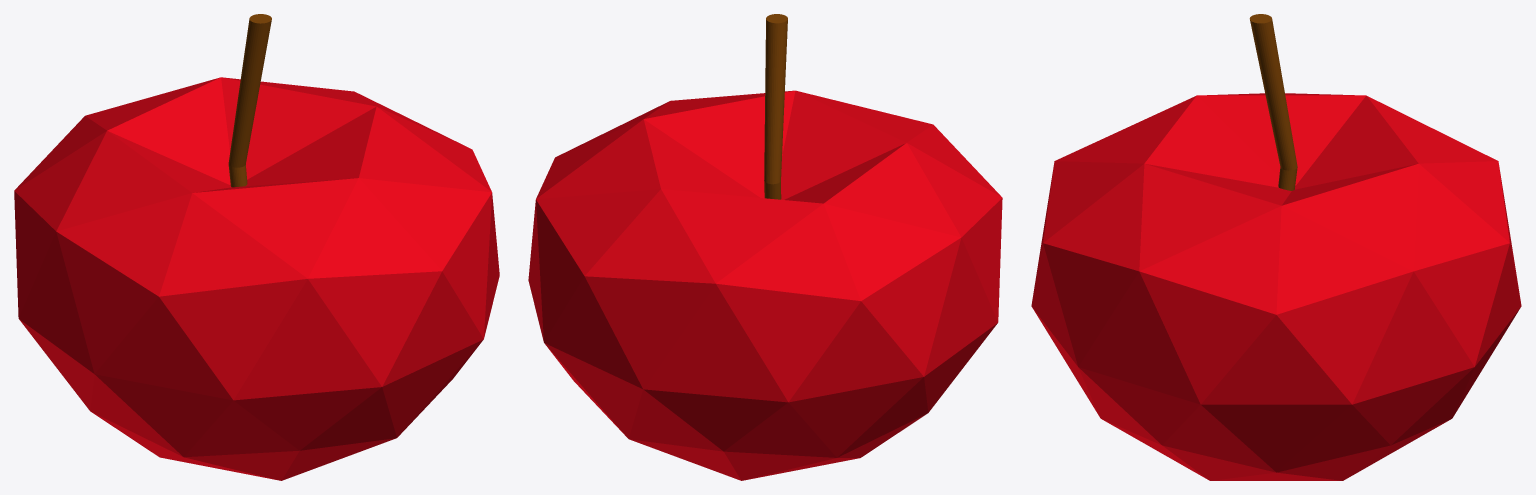
The model's file is apple.fbx.
3 renders of one model, left to right at view 1: azimuth 30°, elevation 25°; view 2: azimuth 150°, elevation 25°; view 3: azimuth 270°, elevation 25°, orthographic. The views are drawn at different scales.
Parts seen in each view (by area): view 1: Cylinder; view 2: Cylinder; view 3: Cylinder.
Boxes of the visible parts, x1,y1,x2,y2 form: Cylinder: (14, 14, 499, 480); Cylinder: (528, 14, 1002, 480); Cylinder: (1031, 14, 1521, 480).
Size of the model in its own units: 223 by 216 by 228.
